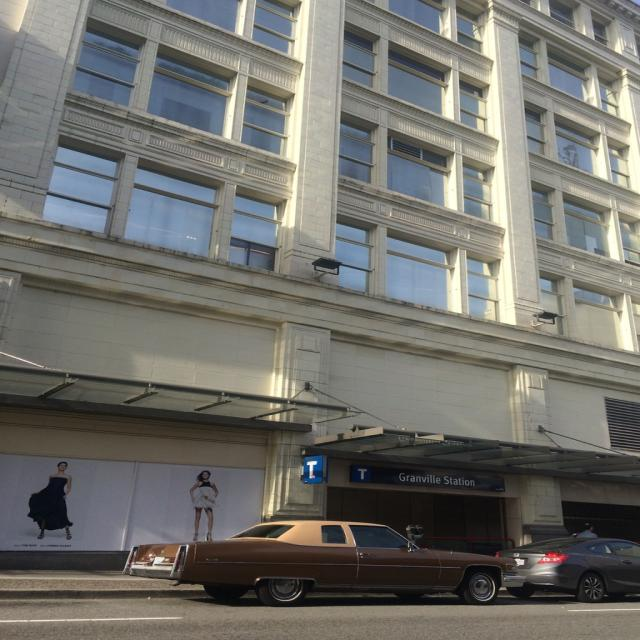car: (113, 516, 513, 604)
